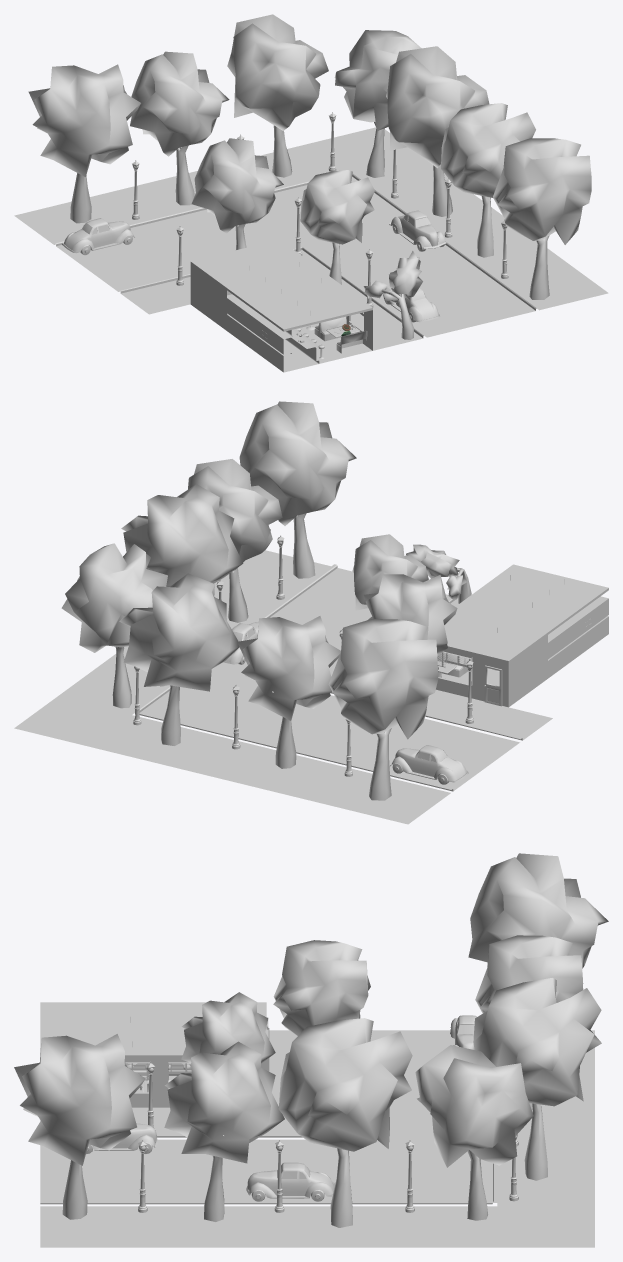
The model's file is CJGG_2026_Environment_v1.fbx.
3 renders of one model, top to bottom at view 1: azimuth 30°, elevation 25°; view 2: azimuth 150°, elevation 25°; view 3: azimuth 270°, elevation 25°, orthographic. The views are drawn at different scales.
Visible parts, largest first — view 1: Exterior, Ceiling, Leaves_v2.007, Leaves_v2.001, Leaves_v2.005, Leaves_v2.003, Leaves_v2.006, Leaves_v2.002, Leaves_v2.008, Leaves_v2.004, Leaves_v2.009, Left Wall (+14 smaller); view 2: Exterior, Leaves_v2.007, Leaves_v2.005, Ceiling, Leaves_v2.001, Leaves_v2.003, Leaves_v2.006, Leaves_v2.004, Leaves_v2.002, Left Wall, Leaves_v2.008, Leaves_v2.009 (+10 smaller); view 3: Exterior, Leaves_v2.003, Leaves_v2.001, Leaves_v2.005, Leaves_v2.004, Leaves_v2.002, Leaves_v2.007, Ceiling, Leaves_v2.008, Leaves_v2.006, Leaves_v2.009, Car_v3.002 (+8 smaller).
Part boxes in pixels (left/top/right/bottom): Exterior: left=14, top=127, right=608, bottom=350; Ceiling: left=190, top=239, right=372, bottom=331; Leaves_v2.007: left=28, top=64, right=140, bottom=176; Leaves_v2.001: left=493, top=138, right=591, bottom=244; Leaves_v2.005: left=227, top=14, right=328, bottom=130; Leaves_v2.003: left=386, top=46, right=489, bottom=168; Leaves_v2.006: left=130, top=51, right=229, bottom=156; Leaves_v2.002: left=441, top=103, right=535, bottom=197; Leaves_v2.008: left=191, top=138, right=283, bottom=233; Leaves_v2.004: left=334, top=30, right=421, bottom=130; Leaves_v2.009: left=300, top=170, right=374, bottom=244; Left Wall: left=190, top=264, right=292, bottom=372; Exterior: left=14, top=550, right=552, bottom=824; Leaves_v2.007: left=328, top=619, right=438, bottom=739; Leaves_v2.005: left=119, top=573, right=239, bottom=691; Ceiling: left=444, top=564, right=608, bottom=663; Leaves_v2.001: left=239, top=401, right=356, bottom=525; Leaves_v2.003: left=121, top=484, right=243, bottom=586; Leaves_v2.006: left=237, top=616, right=340, bottom=720; Leaves_v2.004: left=61, top=543, right=167, bottom=652; Leaves_v2.002: left=188, top=459, right=282, bottom=572; Left Wall: left=508, top=596, right=608, bottom=706; Leaves_v2.008: left=363, top=574, right=457, bottom=655; Leaves_v2.009: left=352, top=534, right=428, bottom=610; Exterior: left=40, top=1030, right=594, bottom=1247; Leaves_v2.003: left=278, top=1018, right=412, bottom=1151; Leaves_v2.001: left=14, top=1034, right=145, bottom=1165; Leaves_v2.005: left=473, top=978, right=601, bottom=1106; Leaves_v2.004: left=415, top=1045, right=533, bottom=1167; Leaves_v2.002: left=164, top=1041, right=284, bottom=1163; Leaves_v2.007: left=468, top=853, right=608, bottom=968; Ceiling: left=40, top=1002, right=266, bottom=1057; Leaves_v2.008: left=273, top=940, right=370, bottom=1035; Leaves_v2.006: left=475, top=935, right=583, bottom=1013; Leaves_v2.009: left=181, top=992, right=275, bottom=1063; Car_v3.002: left=246, top=1162, right=334, bottom=1201.
Bounding box in the file's own units: 2125 × 858 × 2417.
